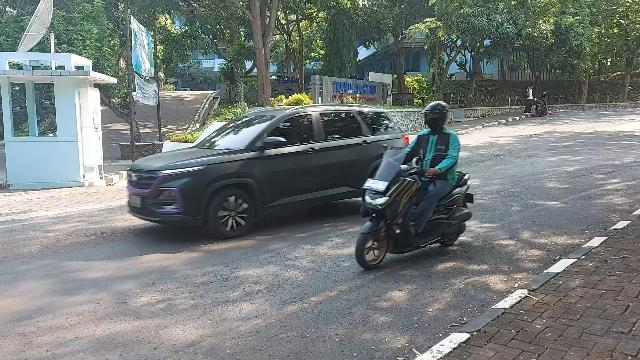helm: (423, 102, 449, 131)
motor: (357, 147, 476, 270)
